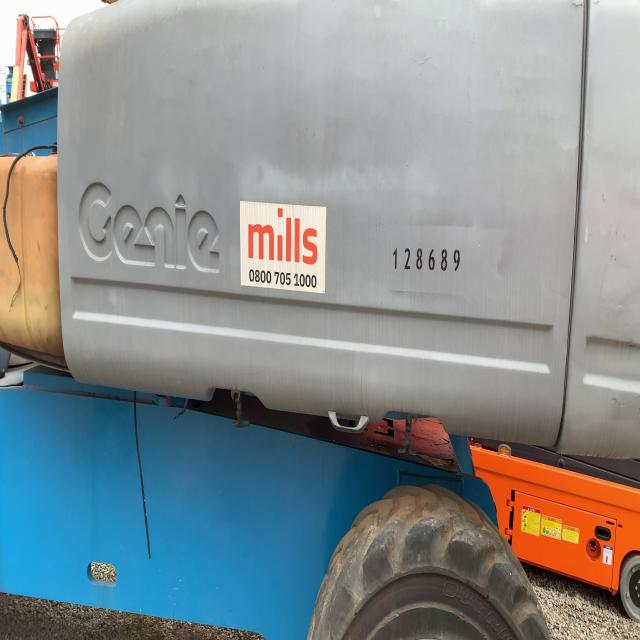Adesivos: (237, 196, 330, 299)
